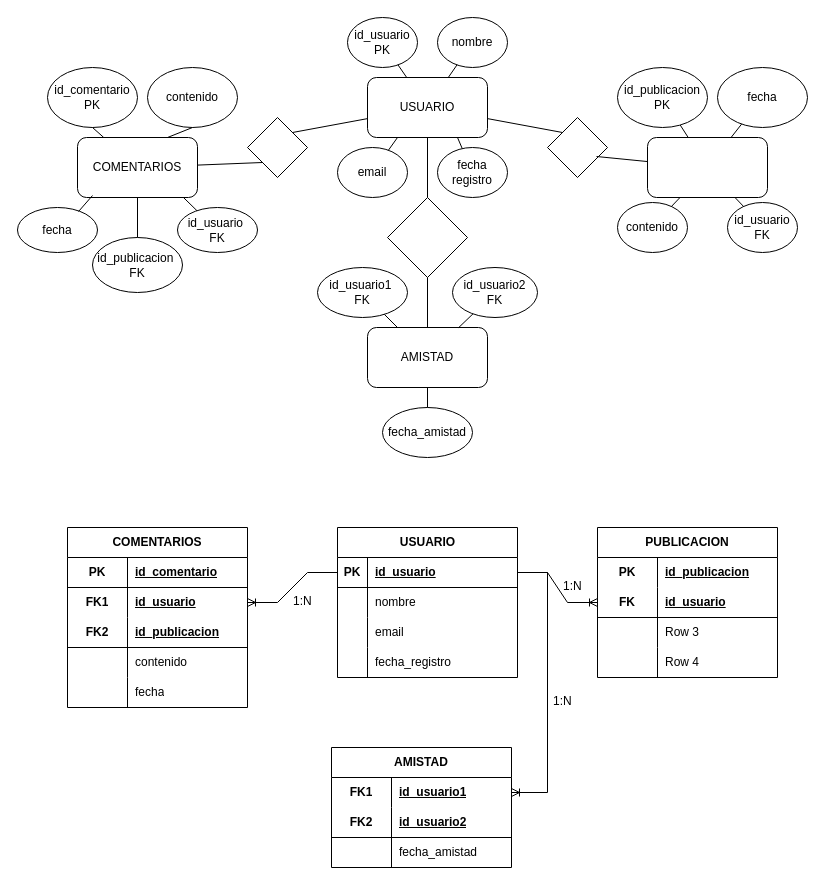
Image size: 825x885. Some labels were removed from this diagram. Each missing label, with the centre of its shape:
"comenta" belongs at pixel 277 147.
"es amigo de" belongs at pixel 427 237.
"Publica" belongs at pixel 577 147.
"PUBLICACIONES" belongs at pixel 707 167.
